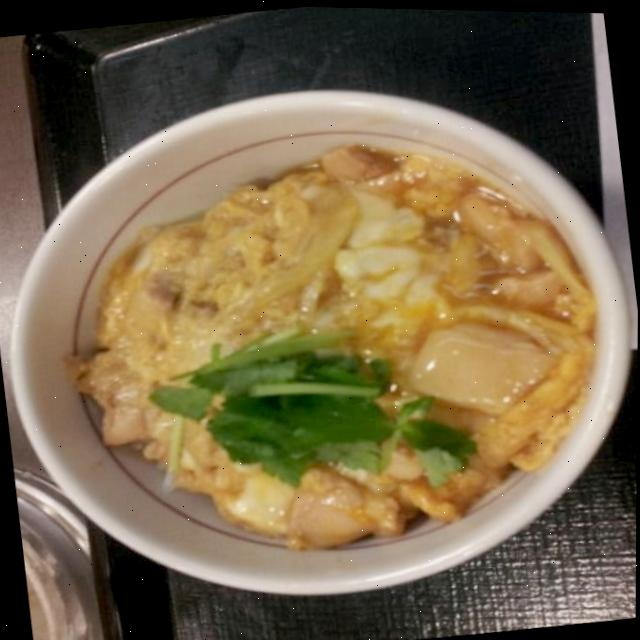米饭主食: (0, 46, 640, 637)
